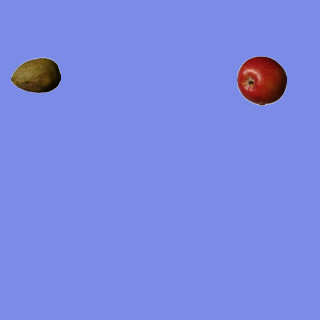Apple Braeburn: (236, 55, 286, 105)
Papaya: (10, 50, 60, 100)
